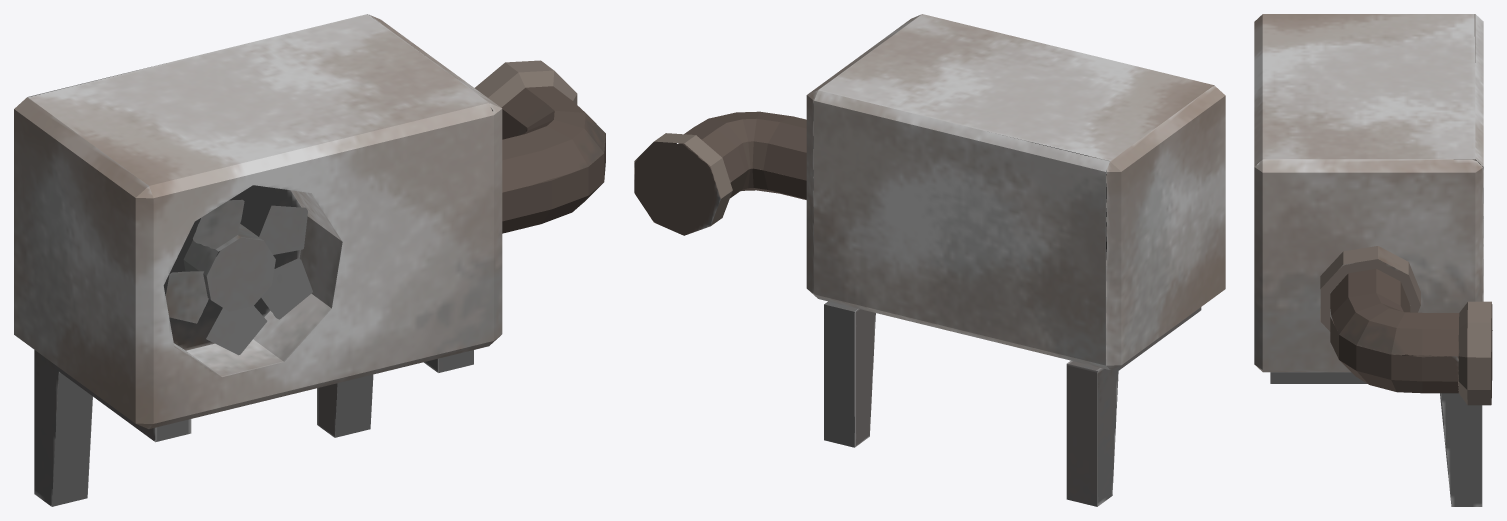
The picture shows the model from 3 angles, left to right: view 1: azimuth 30°, elevation 25°; view 2: azimuth 150°, elevation 25°; view 3: azimuth 270°, elevation 25°; orthographic projection. The views are drawn at different scales.
Visible parts, largest first — view 1: Aire Acondicionado.001; view 2: Aire Acondicionado.001; view 3: Aire Acondicionado.001.
Part boxes in pixels (<box>): Aire Acondicionado.001: <box>14,14,605,506</box>; Aire Acondicionado.001: <box>634,14,1225,506</box>; Aire Acondicionado.001: <box>1254,14,1492,506</box>.
Bounding box in the file's own units: 563 × 387 × 237.
